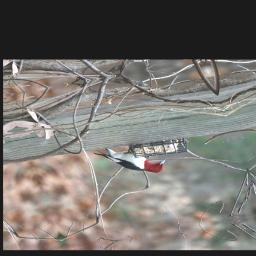Woodpecker: (88, 135, 174, 186)
